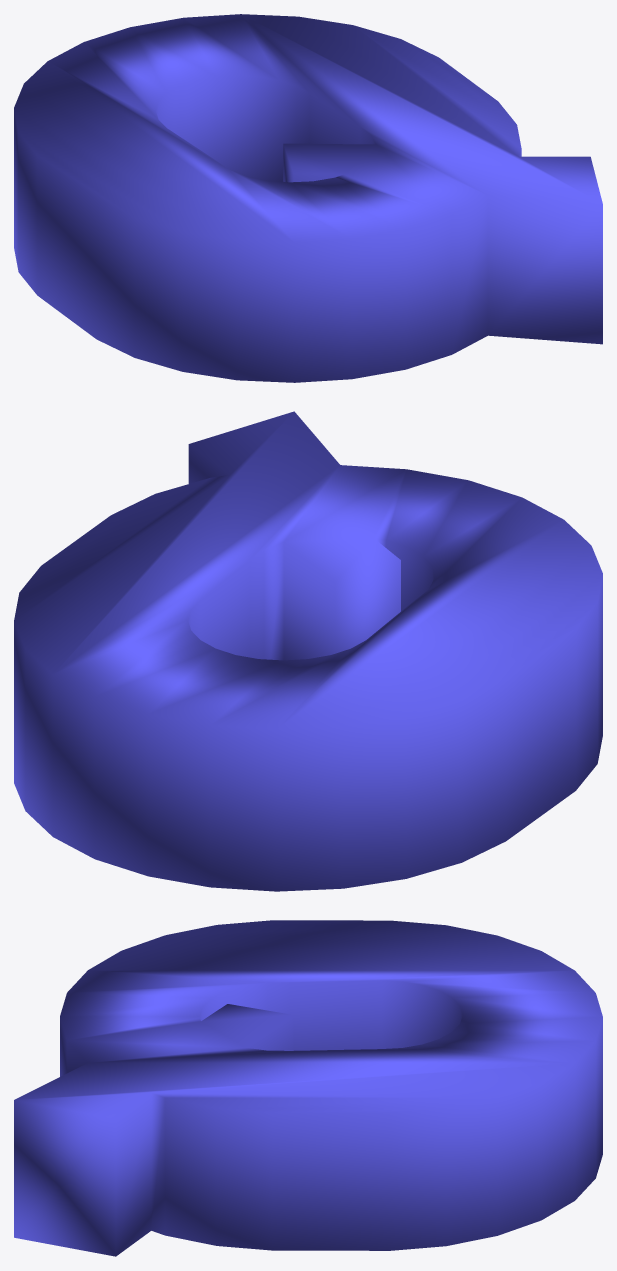
3 renders of one model, top to bottom at view 1: azimuth 30°, elevation 25°; view 2: azimuth 150°, elevation 25°; view 3: azimuth 270°, elevation 25°, orthographic. The views are drawn at different scales.
Parts seen in each view (by area): view 1: Q1; view 2: Q1; view 3: Q1.
Part boxes in pixels (x1,y1,x2,y2): Q1: (14, 14, 602, 382); Q1: (14, 411, 602, 891); Q1: (14, 920, 602, 1256).
Bounding box in the file's own units: 18.28 × 5.91 × 22.89.
